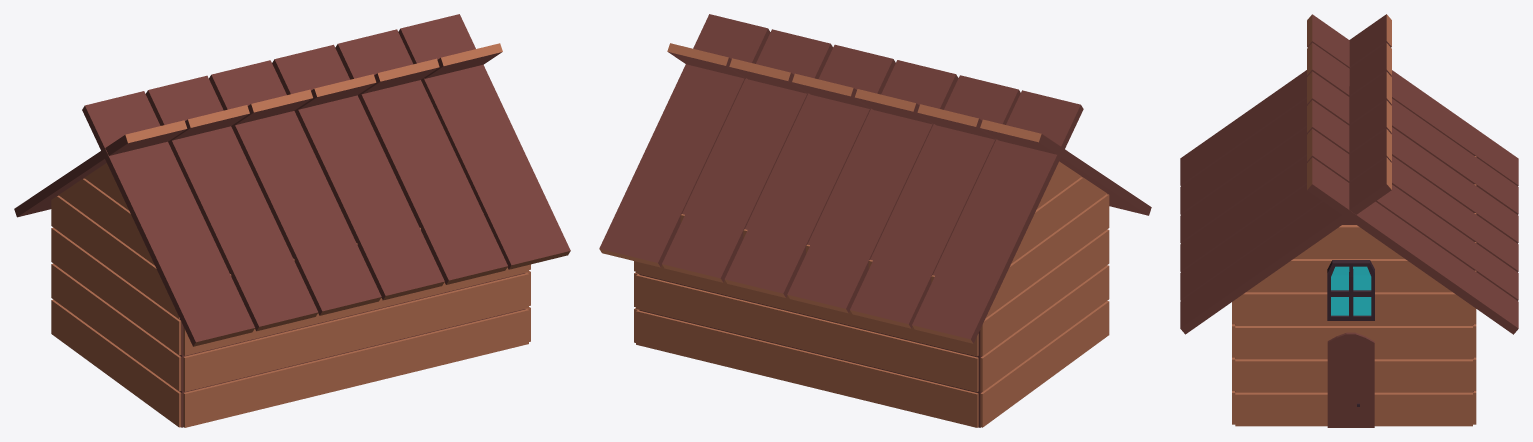
The model's file is dwelling_build_lv1.fbx.
3 views of the same model, side by side, from view 1: azimuth 30°, elevation 25°; view 2: azimuth 150°, elevation 25°; view 3: azimuth 270°, elevation 25° (orthographic). The views are drawn at different scales.
Visible parts, largest first — view 1: Cube.010, Cube.018, Cube; view 2: Cube.010, Cube.018, Cube; view 3: Cube.010, Cube.018, Cube.026, Cube.016.
Part boxes in pixels (x1,y1,x2,y2): Cube.010: (14, 14, 570, 346); Cube.018: (51, 163, 530, 427); Cube: (179, 273, 525, 427); Cube.010: (599, 14, 1151, 343); Cube.018: (634, 161, 1109, 427); Cube: (639, 78, 998, 427); Cube.010: (1180, 14, 1518, 334); Cube.018: (1232, 156, 1476, 426); Cube.026: (1327, 332, 1374, 427); Cube.016: (1327, 260, 1374, 320).
Size of the model in its own units: 7.68 by 5.21 by 6.46.
